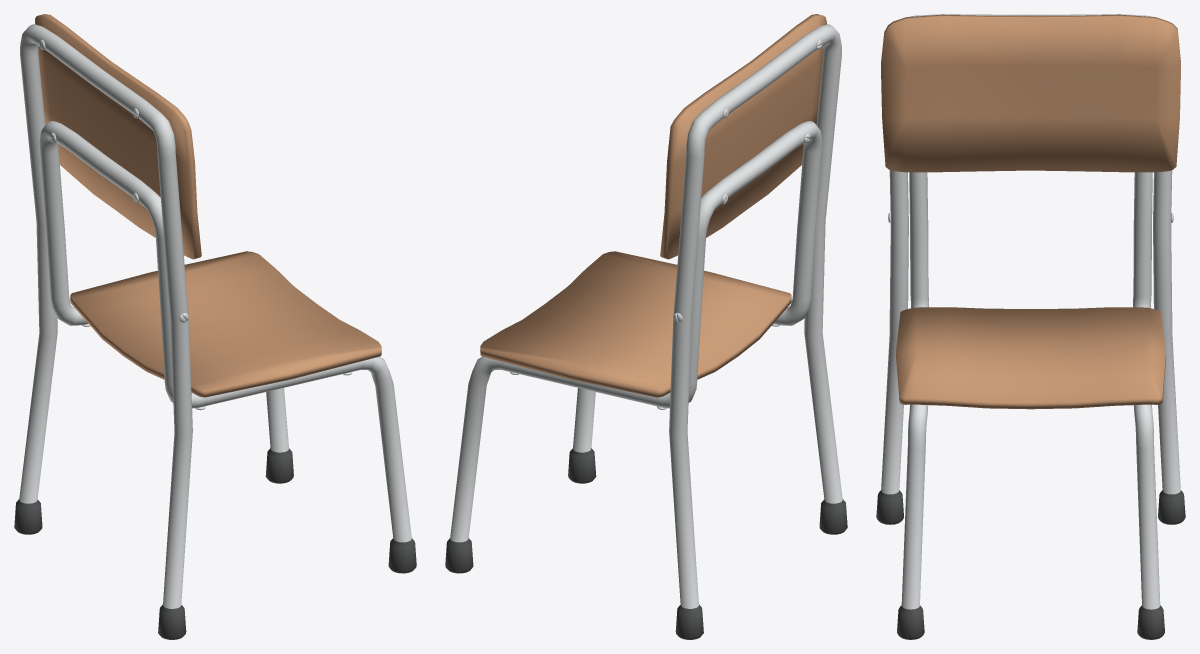
File: chair.glb
3 views of the same model, side by side, from view 1: azimuth 30°, elevation 25°; view 2: azimuth 150°, elevation 25°; view 3: azimuth 270°, elevation 25° (orthographic). The views are drawn at different scales.
Visible parts, largest first — view 1: desk_chair.002; view 2: desk_chair.002; view 3: desk_chair.002.
Boxes of the visible parts, x1,y1,x2,y2 form: desk_chair.002: (14,14,416,639); desk_chair.002: (445,14,847,639); desk_chair.002: (876,14,1185,639).
Size of the model in its own units: 1.82 by 3.41 by 1.88.
